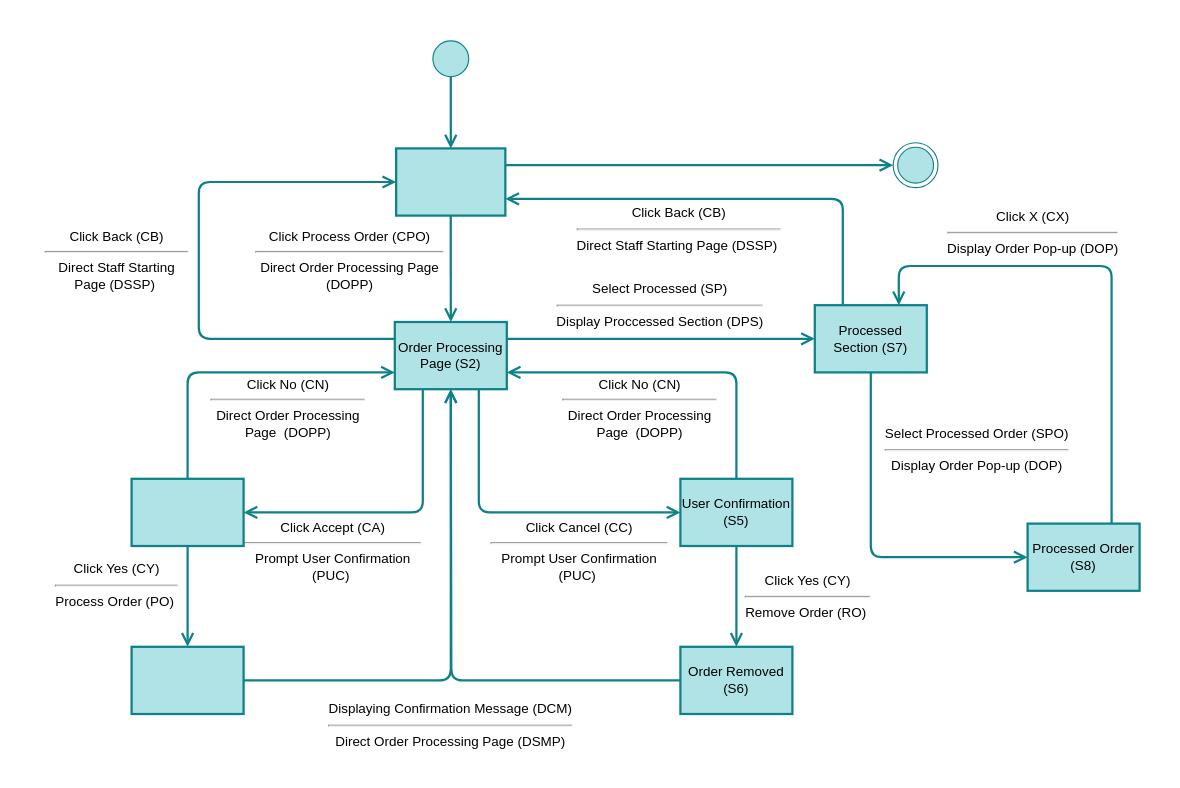
The diagram is 1180 pixels wide and 788 high, and some of its shapes have lost their labels. Here are the shapes that lost their labels. From the top down, the centre of each, then its label:
At pixel 450 181: "Staff Starting Page (S1)".
At pixel 187 512: "User Confirmation (S3)".
At pixel 187 680: "Order Processed (S4)".
